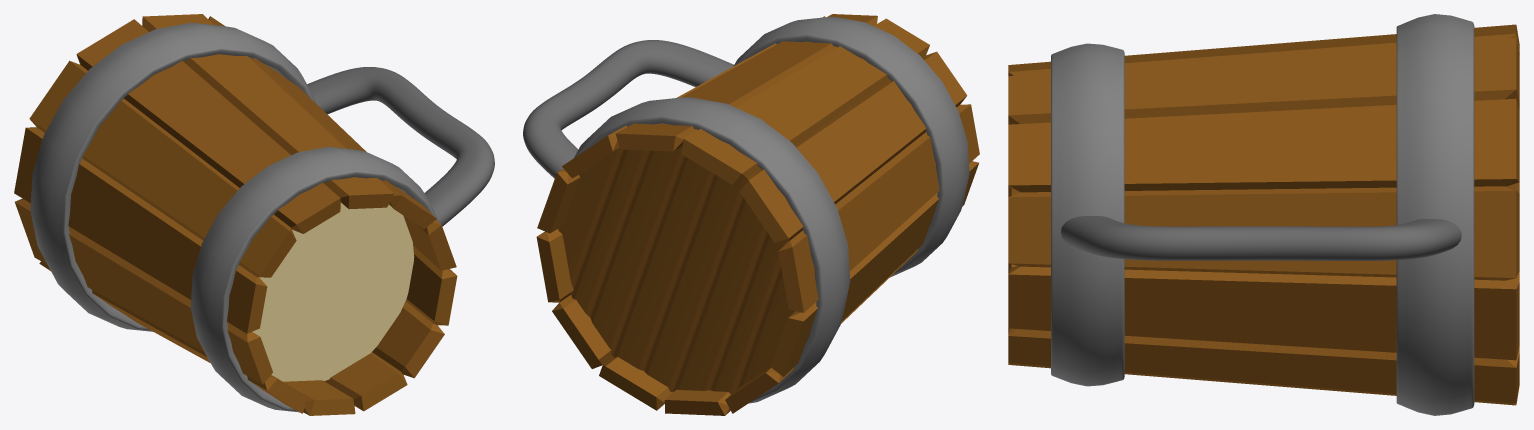
The model's file is Grey Mug.glb.
3 renders of one model, left to right at view 1: azimuth 30°, elevation 25°; view 2: azimuth 150°, elevation 25°; view 3: azimuth 270°, elevation 25°, orthographic. The views are drawn at different scales.
Parts seen in each view (by area): view 1: handle.006; view 2: handle.006; view 3: handle.006.
Boxes of the visible parts, left/top/right/bottom form: handle.006: left=14, top=14, right=494, bottom=415; handle.006: left=523, top=14, right=979, bottom=415; handle.006: left=1008, top=14, right=1519, bottom=415.
Size of the model in its own units: 25.4 by 21.11 by 26.76.
